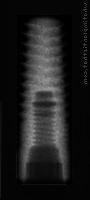Implant Direct: (17, 15, 72, 184)
